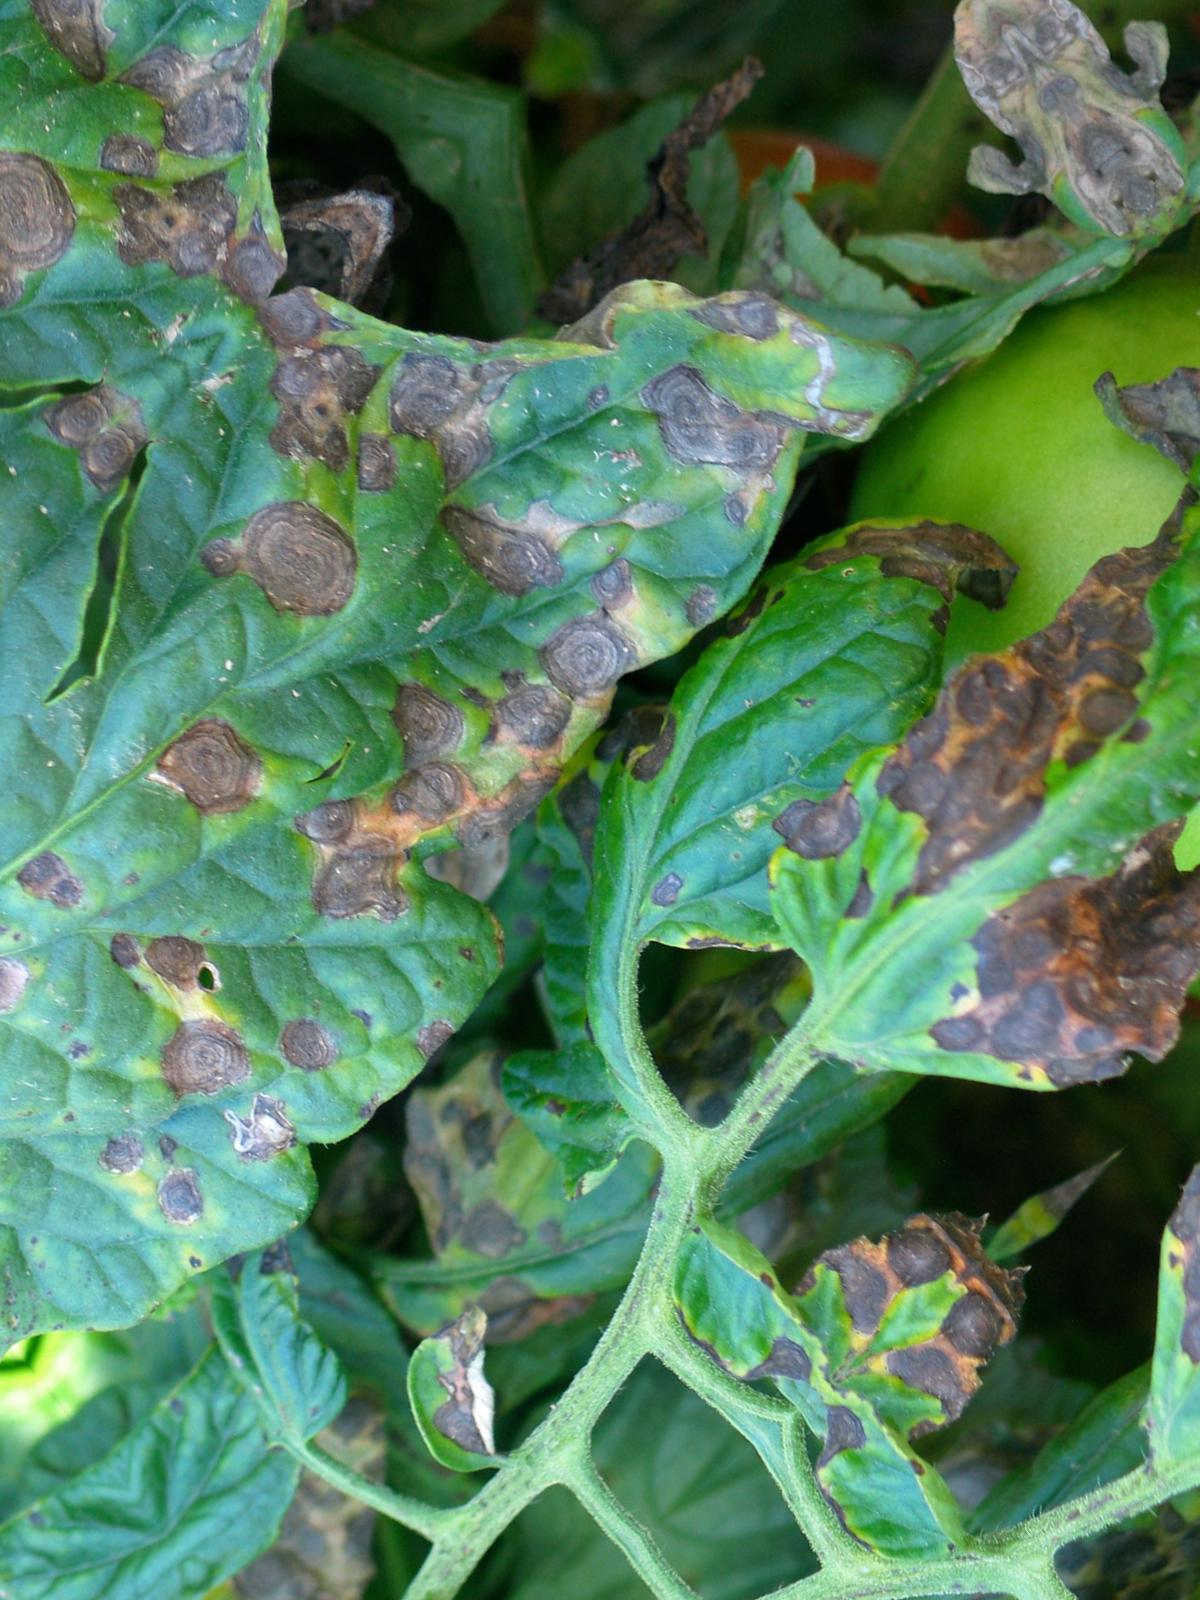Tomato Early blight leaf: (0, 54, 1078, 1405), (640, 344, 1200, 1206), (482, 397, 1104, 978)
